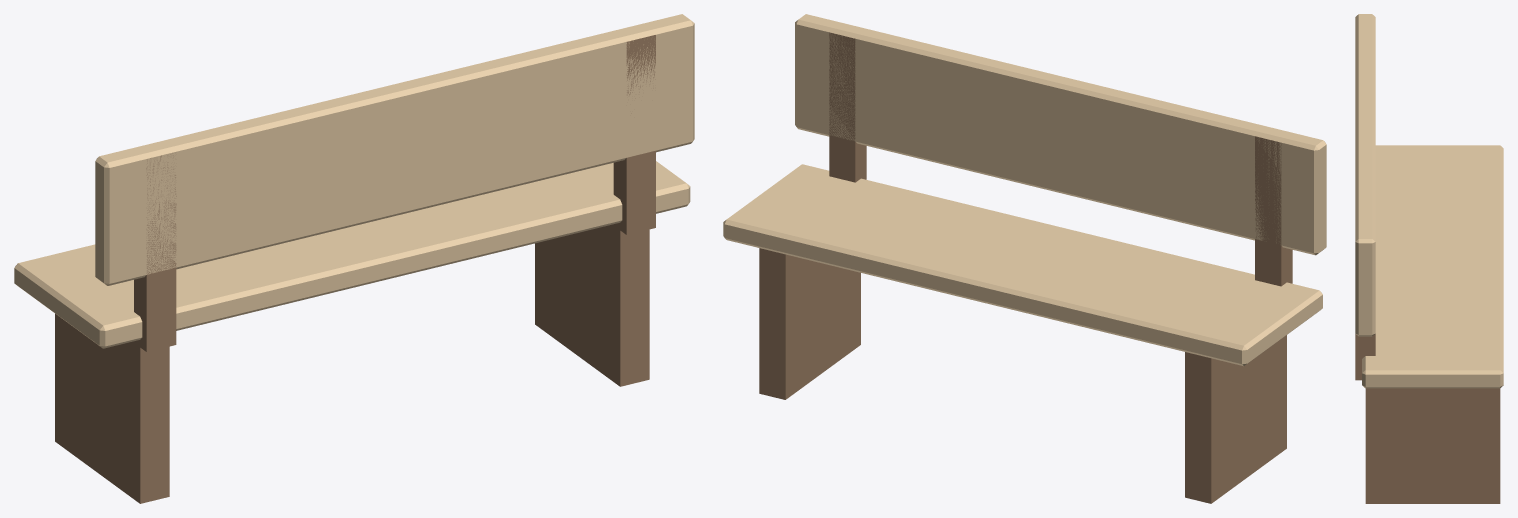
The model's file is Bench.fbx.
3 views of the same model, side by side, from view 1: azimuth 30°, elevation 25°; view 2: azimuth 150°, elevation 25°; view 3: azimuth 270°, elevation 25° (orthographic). The views are drawn at different scales.
Parts seen in each view (by area): view 1: Bench_Mesh; view 2: Bench_Mesh; view 3: Bench_Mesh.
Boxes of the visible parts, x1,y1,x2,y2 form: Bench_Mesh: (14, 14, 694, 503); Bench_Mesh: (723, 14, 1326, 503); Bench_Mesh: (1355, 14, 1503, 503).
Size of the model in its own units: 1.6 by 0.915 by 0.44.
